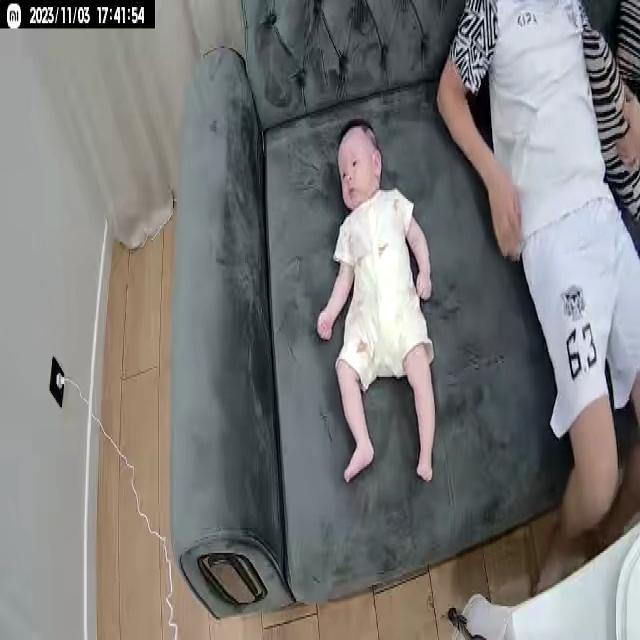baby: (310, 112, 446, 486)
